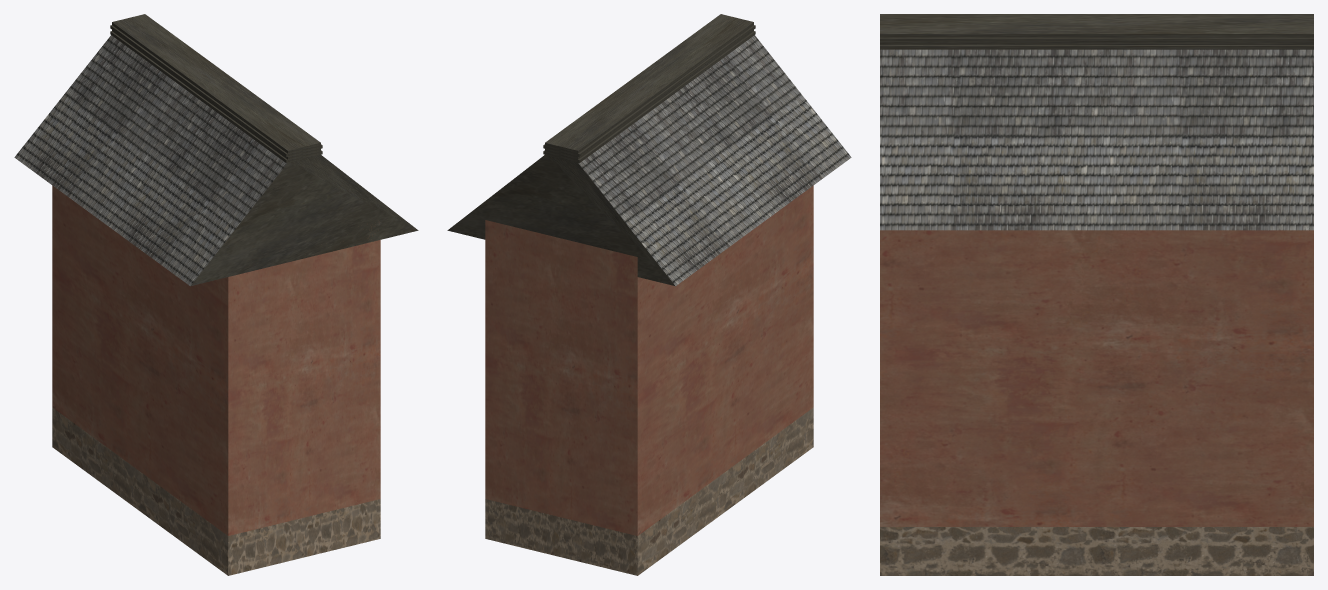
Rendered from NewChineseWall.fbx.
The picture shows the model from 3 angles, left to right: view 1: azimuth 30°, elevation 25°; view 2: azimuth 150°, elevation 25°; view 3: azimuth 270°, elevation 25°; orthographic projection. The views are drawn at different scales.
Parts seen in each view (by area): view 1: ChineseWallA, Cone; view 2: ChineseWallA, Cone; view 3: ChineseWallA, Cone.
Part boxes in pixels (x1=…): ChineseWallA: x1=52, y1=185, x2=380, y2=575; Cone: x1=14, y1=14, x2=418, y2=286; ChineseWallA: x1=485, y1=185, x2=813, y2=575; Cone: x1=447, y1=14, x2=851, y2=286; ChineseWallA: x1=880, y1=230, x2=1313, y2=575; Cone: x1=880, y1=14, x2=1313, y2=230.
Size of the model in its own units: 600 by 1030 by 800.
2 materials, 2 textured.
